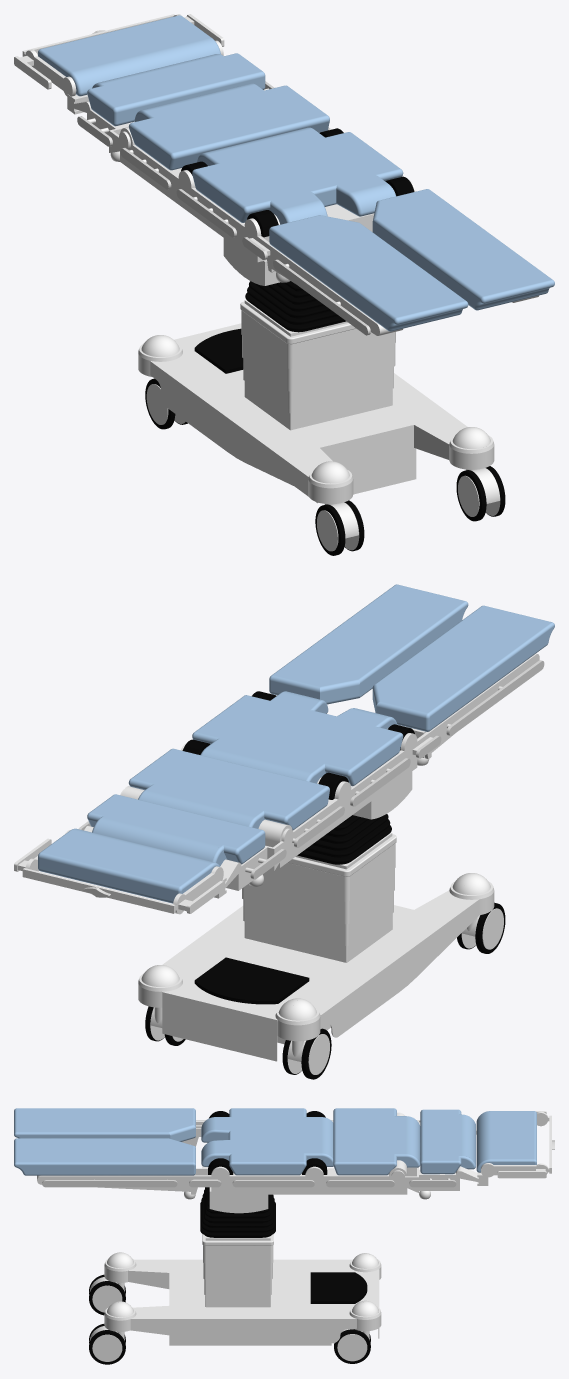
The model's file is surgery_table.fbx.
The picture shows the model from 3 angles, top to bottom: view 1: azimuth 30°, elevation 25°; view 2: azimuth 150°, elevation 25°; view 3: azimuth 270°, elevation 25°; orthographic projection. The views are drawn at different scales.
Visible parts, largest first — view 1: w-Medical Equipment -Trumpf - Titan Surgery Table Titan_241c; view 2: w-Medical Equipment -Trumpf - Titan Surgery Table Titan_241c; view 3: w-Medical Equipment -Trumpf - Titan Surgery Table Titan_241c.
Boxes of the visible parts, x1,y1,x2,y2 form: w-Medical Equipment -Trumpf - Titan Surgery Table Titan_241c: (14, 14, 554, 555); w-Medical Equipment -Trumpf - Titan Surgery Table Titan_241c: (14, 584, 554, 1079); w-Medical Equipment -Trumpf - Titan Surgery Table Titan_241c: (14, 1108, 554, 1364).
Size of the model in its own units: 60.2 by 90.26 by 220.
